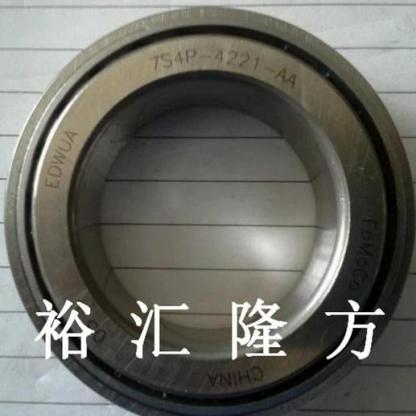FOD: (0, 4, 414, 415)
